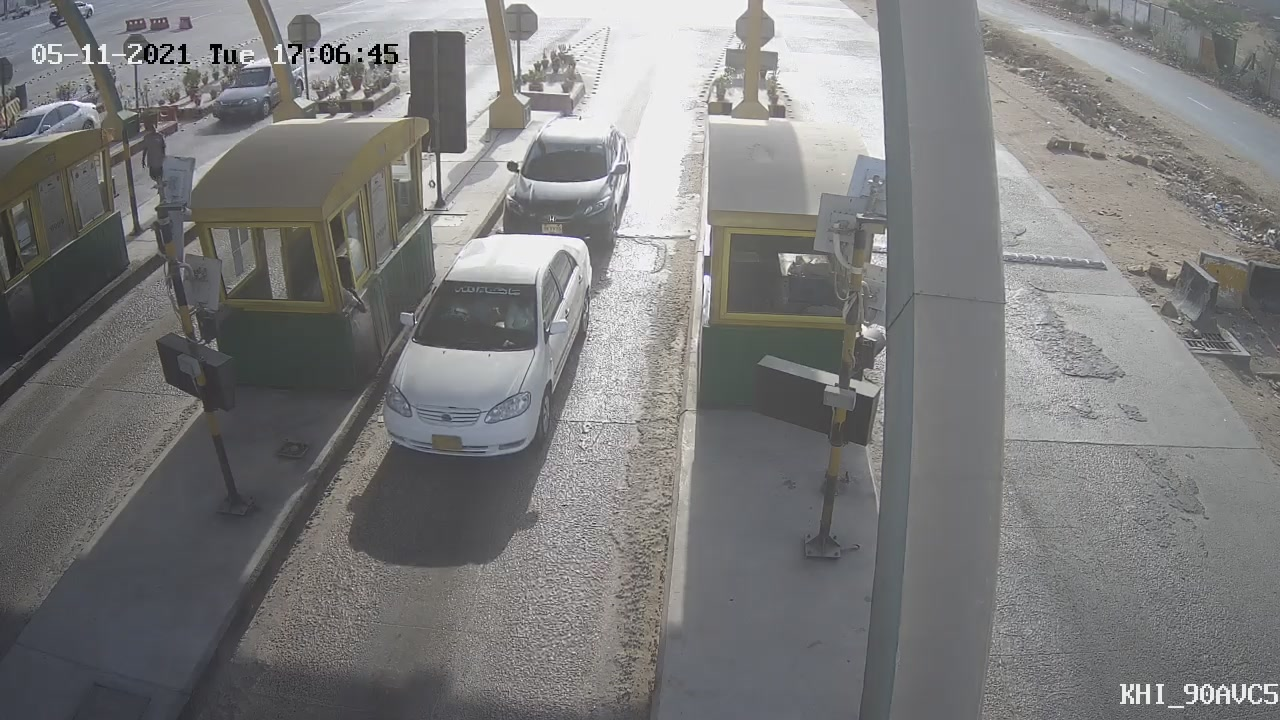F1: (363, 218, 620, 486), (487, 100, 650, 274)
